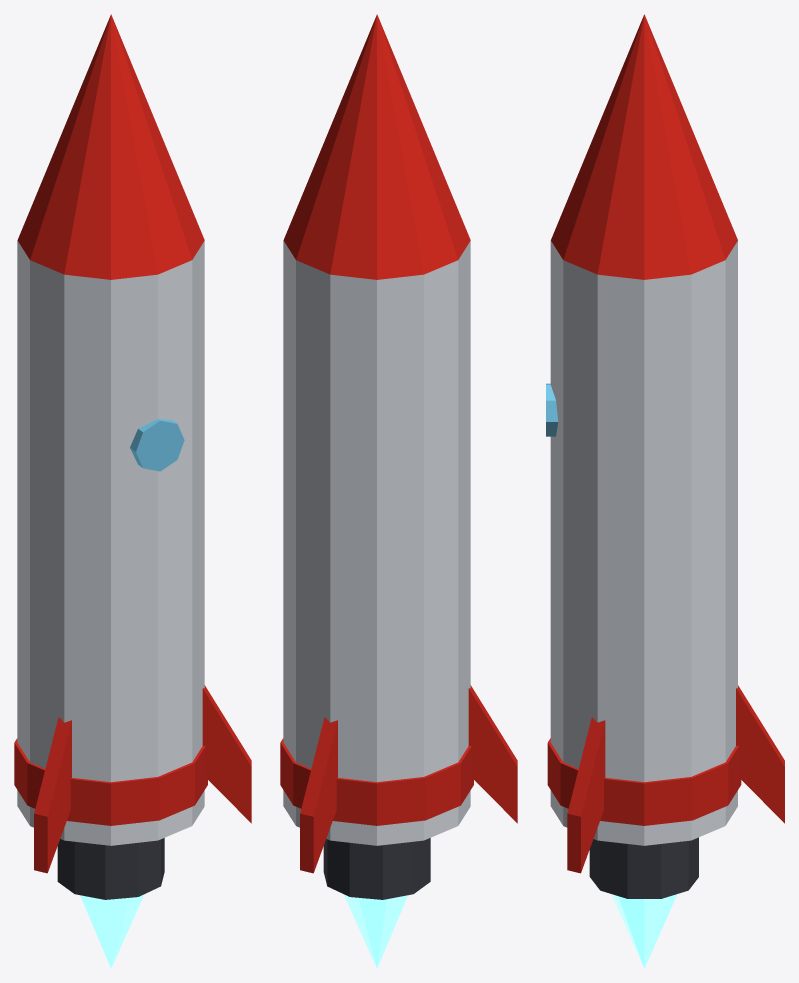
File: lowpoly-rocket_classic.glb
3 renders of one model, left to right at view 1: azimuth 30°, elevation 25°; view 2: azimuth 150°, elevation 25°; view 3: azimuth 270°, elevation 25°, orthographic.
Visible parts, largest first — view 1: rocket_classic; view 2: rocket_classic; view 3: rocket_classic.
Boxes of the visible parts, bbox=[...] form: rocket_classic: bbox=[14, 14, 251, 968]; rocket_classic: bbox=[280, 14, 517, 968]; rocket_classic: bbox=[546, 14, 784, 968].
Size of the model in its own units: 1.61 by 6.75 by 1.53.
